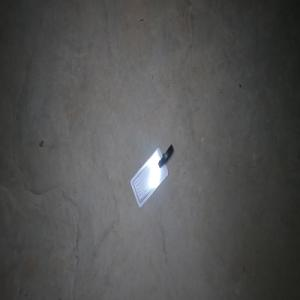LuggageTag: (129, 142, 173, 209)
